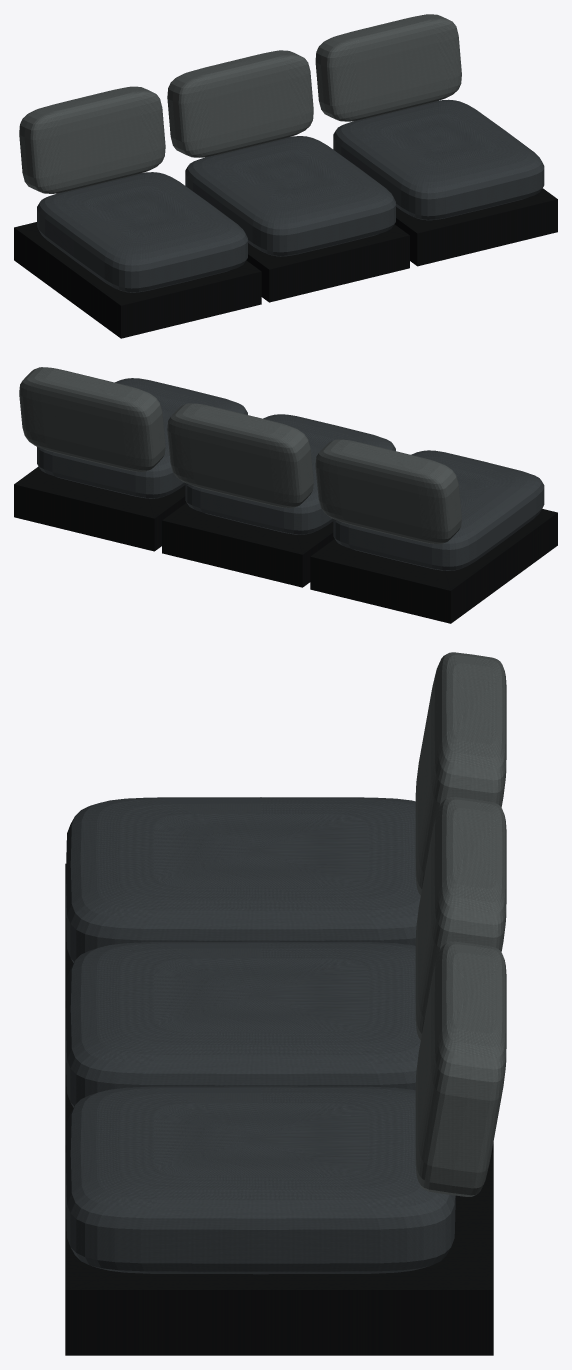
The model's file is sofa-modular_lod1.glb.
3 views of the same model, one above another, from view 1: azimuth 30°, elevation 25°; view 2: azimuth 150°, elevation 25°; view 3: azimuth 270°, elevation 25° (orthographic). The views are drawn at different scales.
Parts seen in each view (by area): view 1: seat_1, seat_3, seat_2, back_3, back_1, back_2, base_1, base_2, base_3; view 2: base_1, back_3, back_2, back_1, seat_1, base_2, base_3, seat_2, seat_3; view 3: seat_3, seat_2, seat_1, base_3, back_3, back_1, back_2.
Part boxes in pixels (<box>): seat_1: <box>37,172,247,292</box>; seat_3: <box>333,99,544,220</box>; seat_2: <box>185,136,395,256</box>; back_3: <box>315,14,461,121</box>; back_1: <box>19,86,165,193</box>; back_2: <box>167,50,313,157</box>; base_1: <box>14,222,261,338</box>; base_2: <box>246,224,409,302</box>; base_3: <box>395,188,557,266</box>; base_1: <box>310,509,557,623</box>; back_3: <box>19,367,165,471</box>; back_2: <box>167,403,313,507</box>; back_1: <box>315,439,461,544</box>; seat_1: <box>333,450,544,570</box>; base_2: <box>162,502,334,587</box>; base_3: <box>14,466,186,551</box>; seat_2: <box>185,414,395,534</box>; seat_3: <box>37,378,247,498</box>; seat_3: <box>66,1086,455,1274</box>; seat_2: <box>66,941,420,1107</box>; seat_1: <box>66,797,420,962</box>; base_3: <box>65,1152,493,1355</box>; back_3: <box>415,941,506,1196</box>; back_1: <box>415,652,506,896</box>; back_2: <box>415,797,506,1040</box>.
Size of the model in its own units: 2.4 by 0.78 by 1.05.
Materials: 3 (3 with a texture image).
